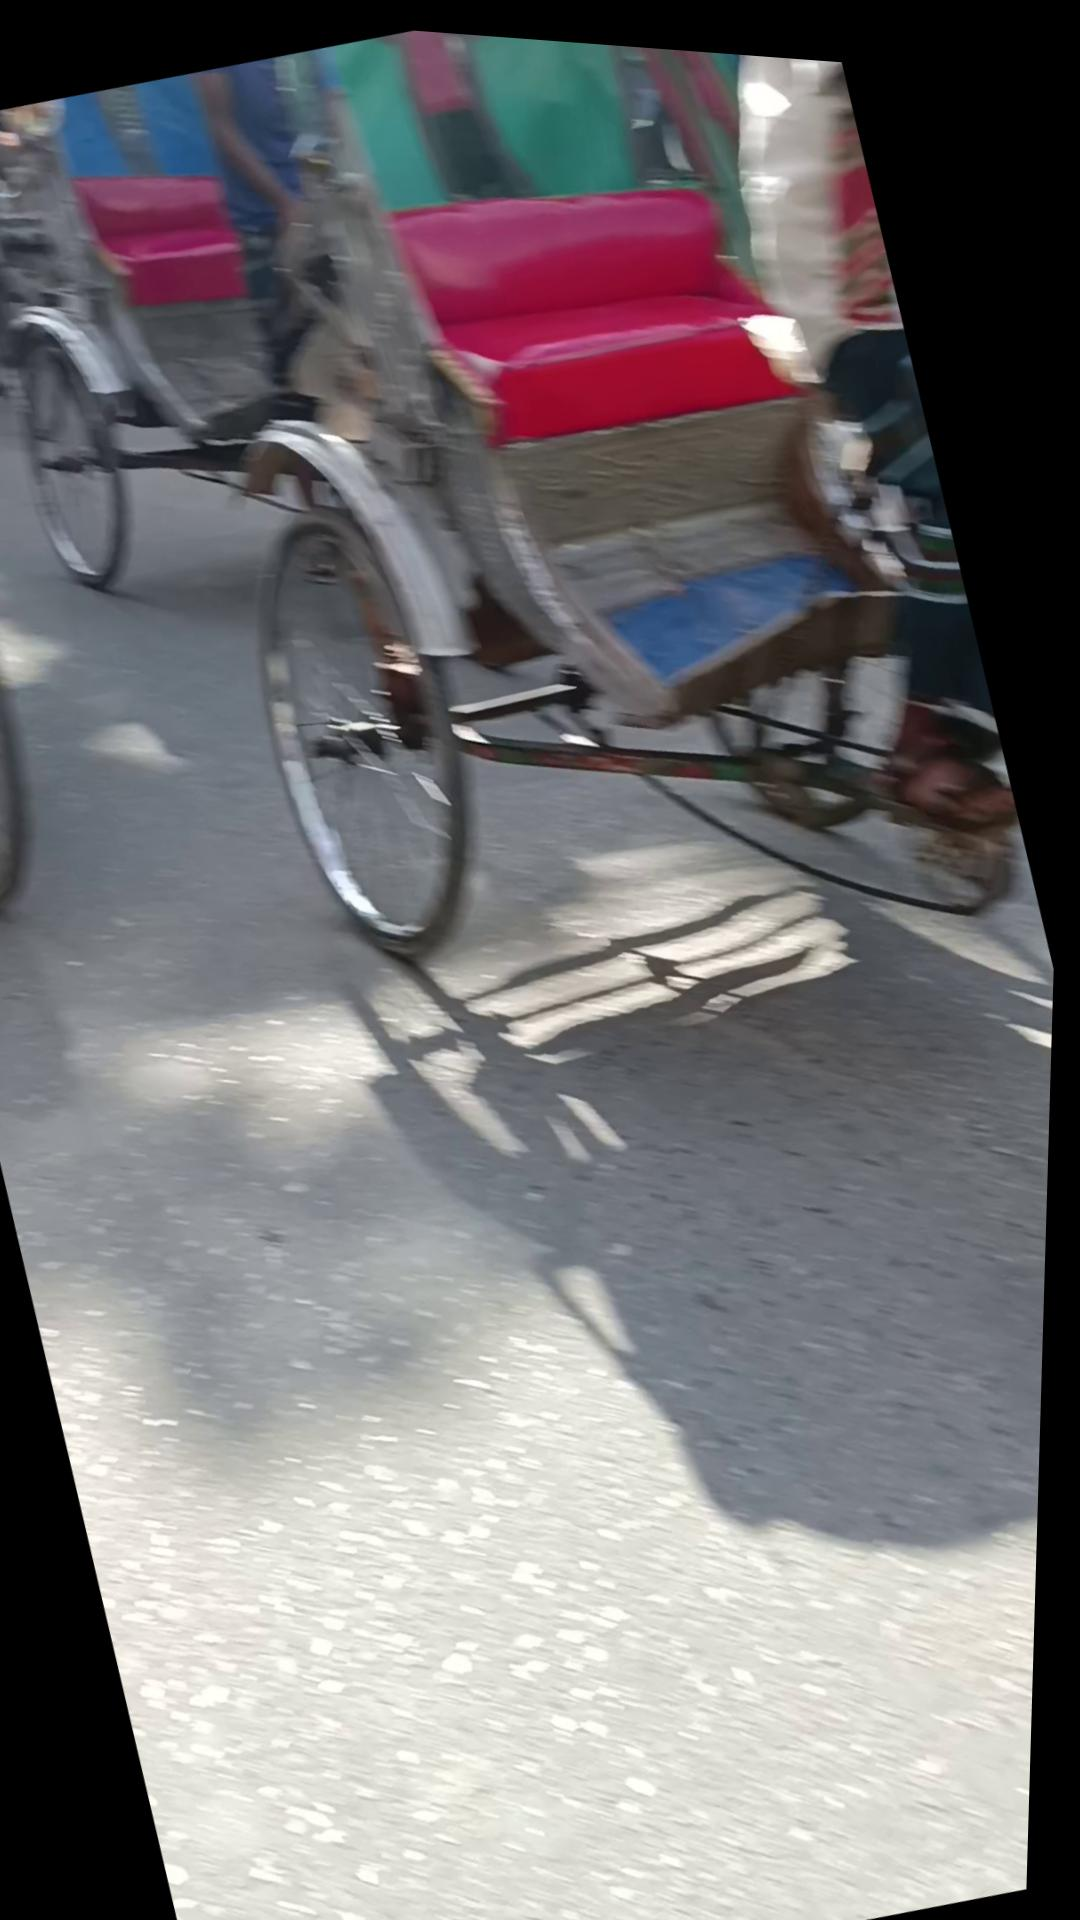Fence: (97, 7, 1061, 1066), (0, 241, 103, 937)
